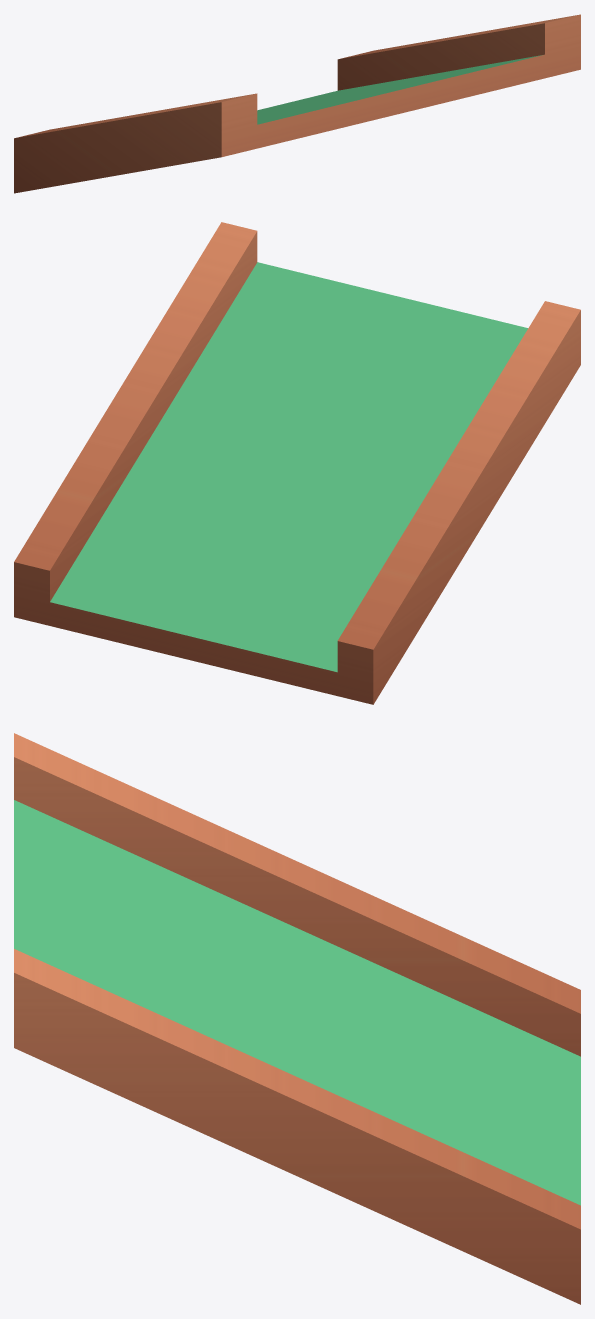
Rendered from ramp-high.glb.
3 views of the same model, one above another, from view 1: azimuth 30°, elevation 25°; view 2: azimuth 150°, elevation 25°; view 3: azimuth 270°, elevation 25° (orthographic). The views are drawn at different scales.
Visible parts, largest first — view 1: ramp-high; view 2: ramp-high; view 3: ramp-high.
Boxes of the visible parts, <box> form: ramp-high: <box>14,14,580,193</box>; ramp-high: <box>14,222,580,704</box>; ramp-high: <box>14,733,580,1304</box>.
Size of the model in its own units: 0.9999 by 0.6466 by 0.9999.
Materials: 1 (1 with a texture image).
